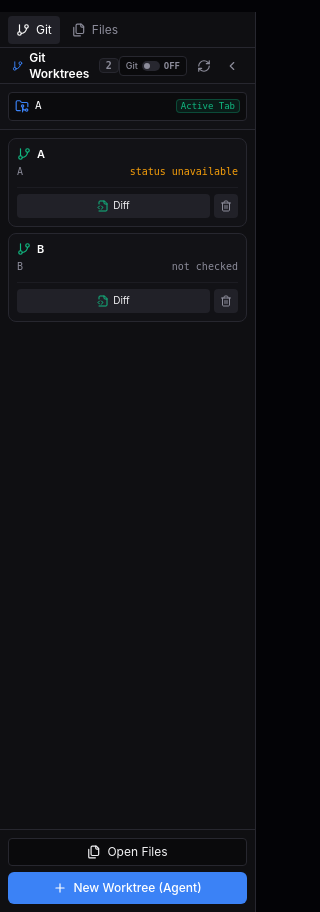
Test: shows status errors without hiding worktrees and retries on manual refresh
Expected: the text titled "broken gitfile" reads "status unavailable", [130,166,238,177]
Expected: the text "not checked" is shown, [172,260,238,274]
Click the button titled "Refresh Worktrees (Manual Check)" at (204, 66), box [193,54,215,76]
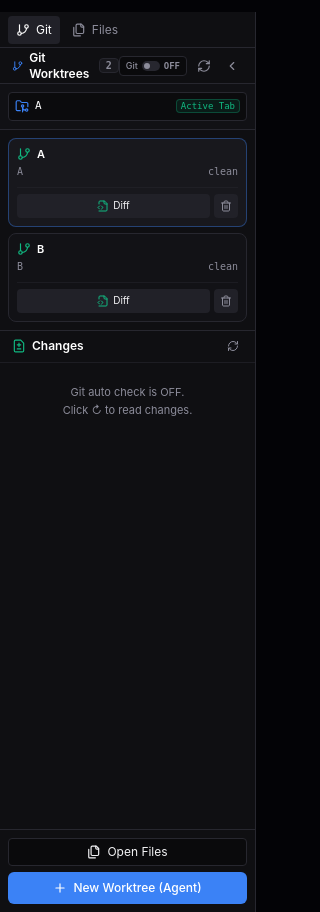
Expected: the text "clean" is shown 2 times, [208,165,238,179]; [208,260,238,274]
